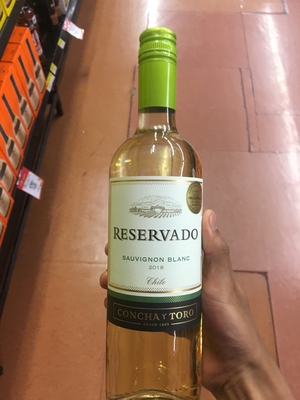reservado sauvignon blanc: (95, 26, 219, 381)
